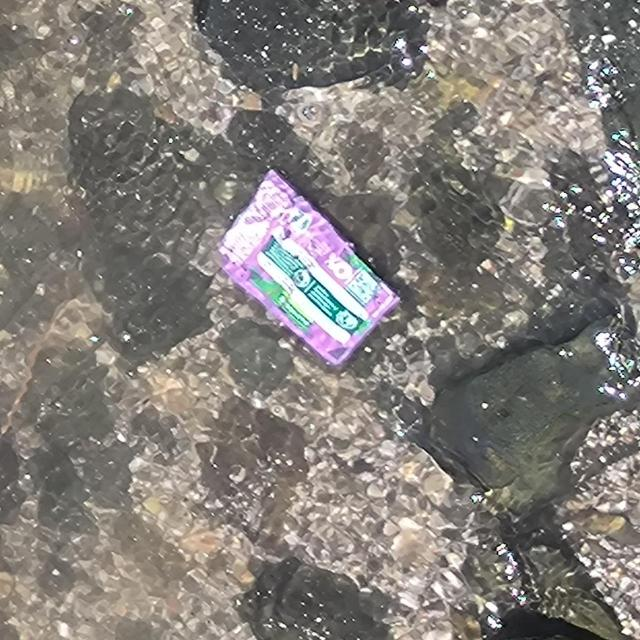plastic_waste: (217, 167, 403, 368)
